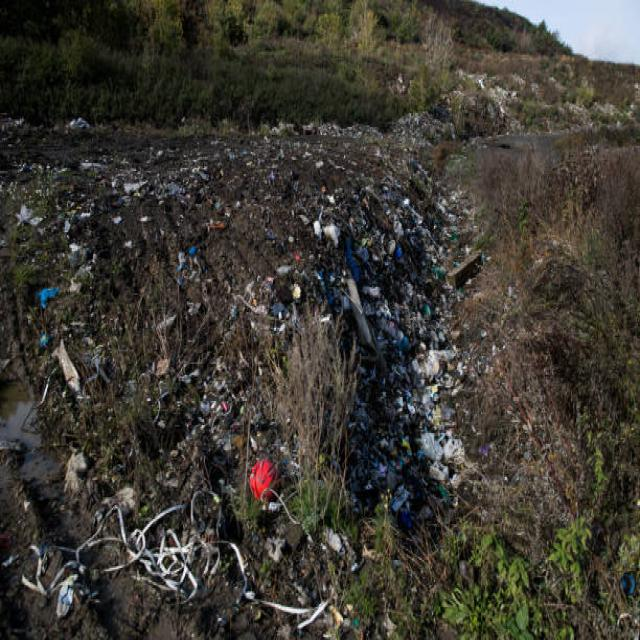plastic: (366, 267, 465, 500)
